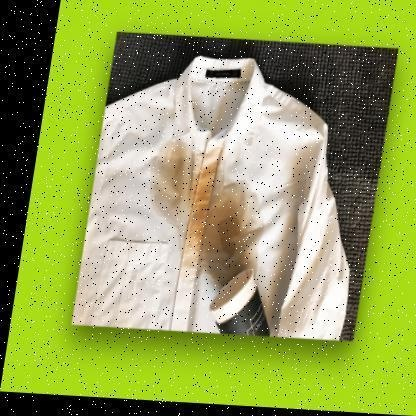coffee: (207, 203, 246, 272), (158, 167, 204, 210)
